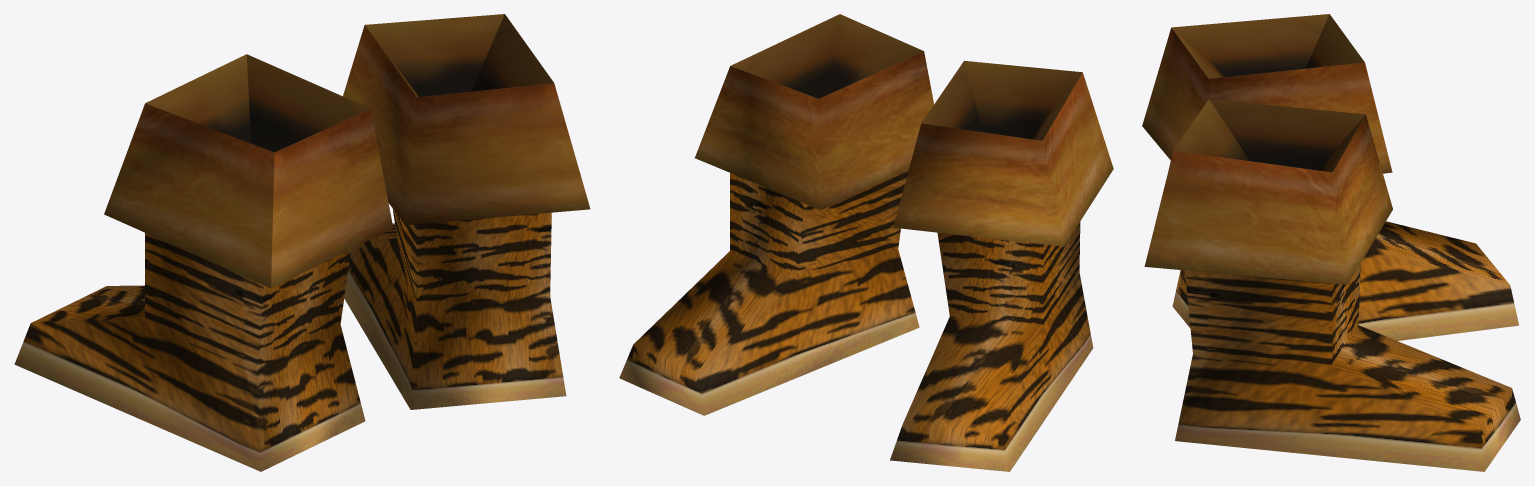
File: Item05.obj
3 views of the same model, side by side, from view 1: azimuth 30°, elevation 25°; view 2: azimuth 150°, elevation 25°; view 3: azimuth 270°, elevation 25° (orthographic). The views are drawn at different scales.
Visible parts, largest first — view 1: 0, 1; view 2: 1, 0; view 3: 1, 0.
Part boxes in pixels (x1=…): 0: x1=14, y1=54, x2=393, y2=471; 1: x1=343, y1=14, x2=590, y2=409; 1: x1=619, y1=14, x2=933, y2=415; 0: x1=890, y1=60, x2=1113, y2=471; 1: x1=1144, y1=99, x2=1520, y2=471; 0: x1=1142, y1=14, x2=1518, y2=340.
Bounding box in the file's own units: 17.19 × 11.51 × 13.88.
